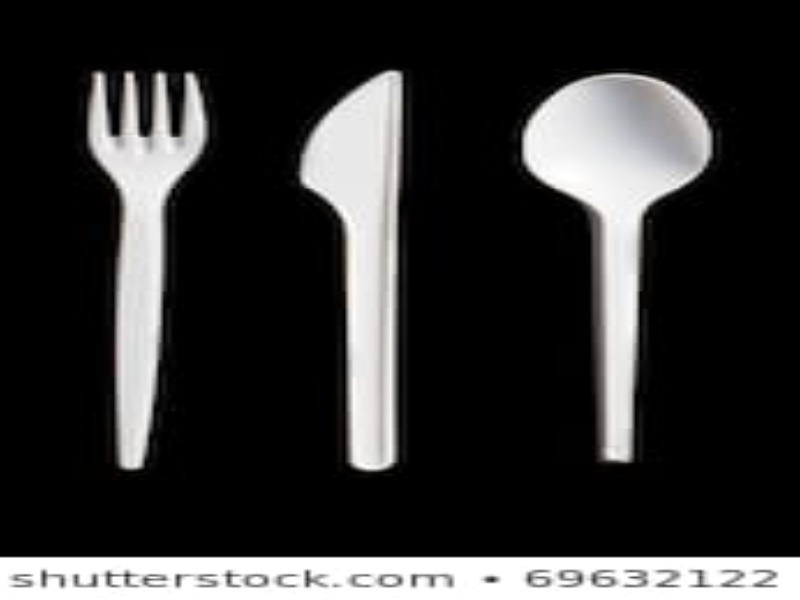plastic-silverware: (521, 70, 713, 467), (88, 69, 207, 480), (297, 67, 406, 474)
